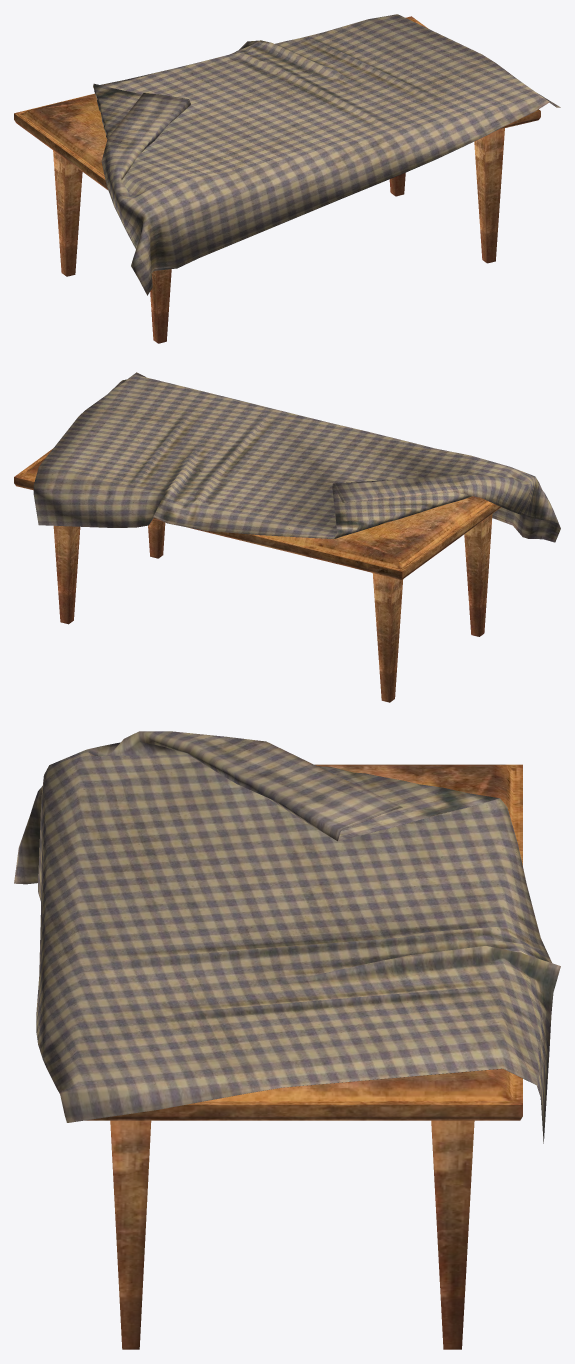
Rendered from table.glb.
3 renders of one model, top to bottom at view 1: azimuth 30°, elevation 25°; view 2: azimuth 150°, elevation 25°; view 3: azimuth 270°, elevation 25°, orthographic. The views are drawn at different scales.
Visible parts, largest first — view 1: dining_table_cloth, dining_table; view 2: dining_table_cloth, dining_table; view 3: dining_table_cloth, dining_table.
Part boxes in pixels (left/top/right/bottom): dining_table_cloth: left=93, top=14, right=560, bottom=295; dining_table: left=14, top=16, right=540, bottom=343; dining_table_cloth: left=33, top=372, right=560, bottom=542; dining_table: left=14, top=448, right=501, bottom=702; dining_table_cloth: left=14, top=731, right=560, bottom=1143; dining_table: left=85, top=764, right=522, bottom=1349.
Bounding box in the file's own units: 2.26 × 0.877 × 1.39.
Materials: 1 (1 with a texture image).
